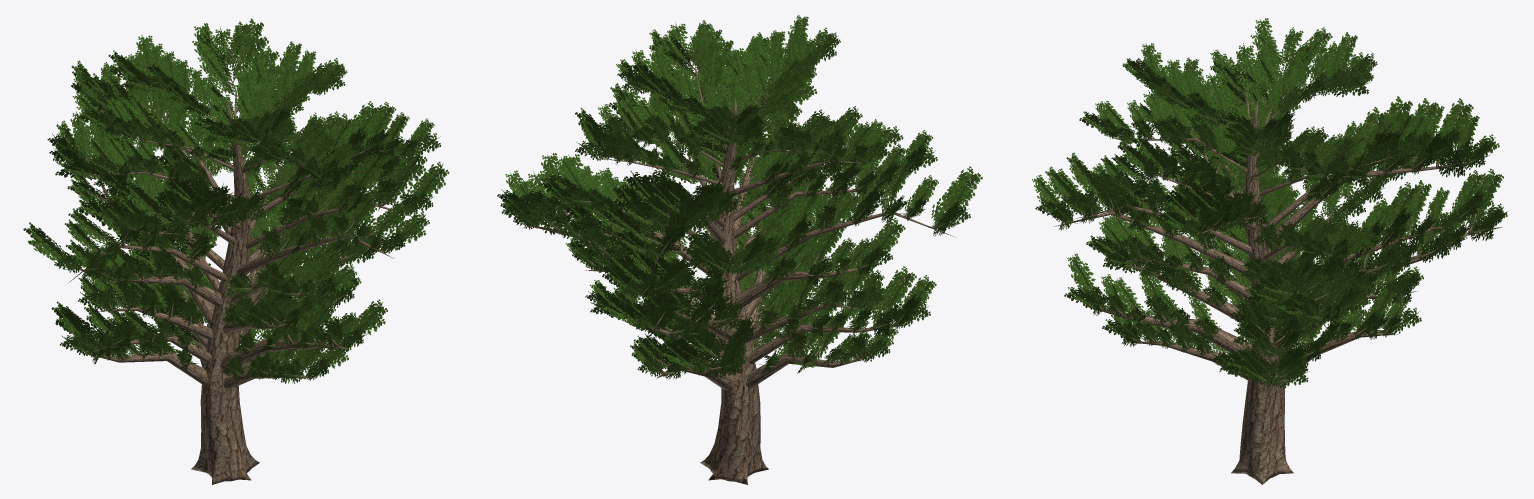
Rendered from english-oak.glb.
3 renders of one model, left to right at view 1: azimuth 30°, elevation 25°; view 2: azimuth 150°, elevation 25°; view 3: azimuth 270°, elevation 25°, orthographic.
Visible parts, largest first — view 1: English Oak; view 2: English Oak; view 3: English Oak.
Part boxes in pixels (<box>): English Oak: <box>23,18,449,484</box>; English Oak: <box>497,15,982,484</box>; English Oak: <box>1032,18,1507,484</box>.
Bounding box in the file's own units: 11.86 × 10.85 × 11.8.
Materials: 2 (2 with a texture image).
